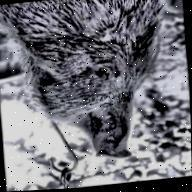boar: (0, 0, 177, 172)
